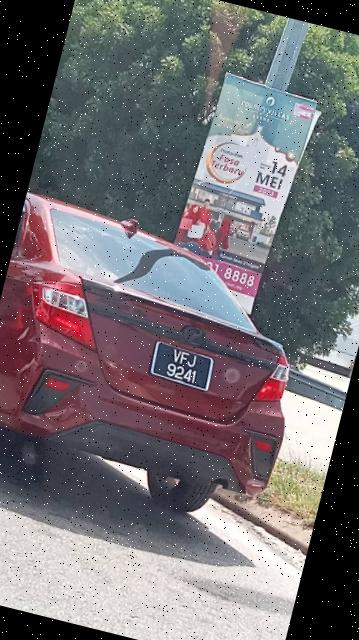License_Plate: (153, 340, 216, 393)
car: (1, 183, 338, 550)
